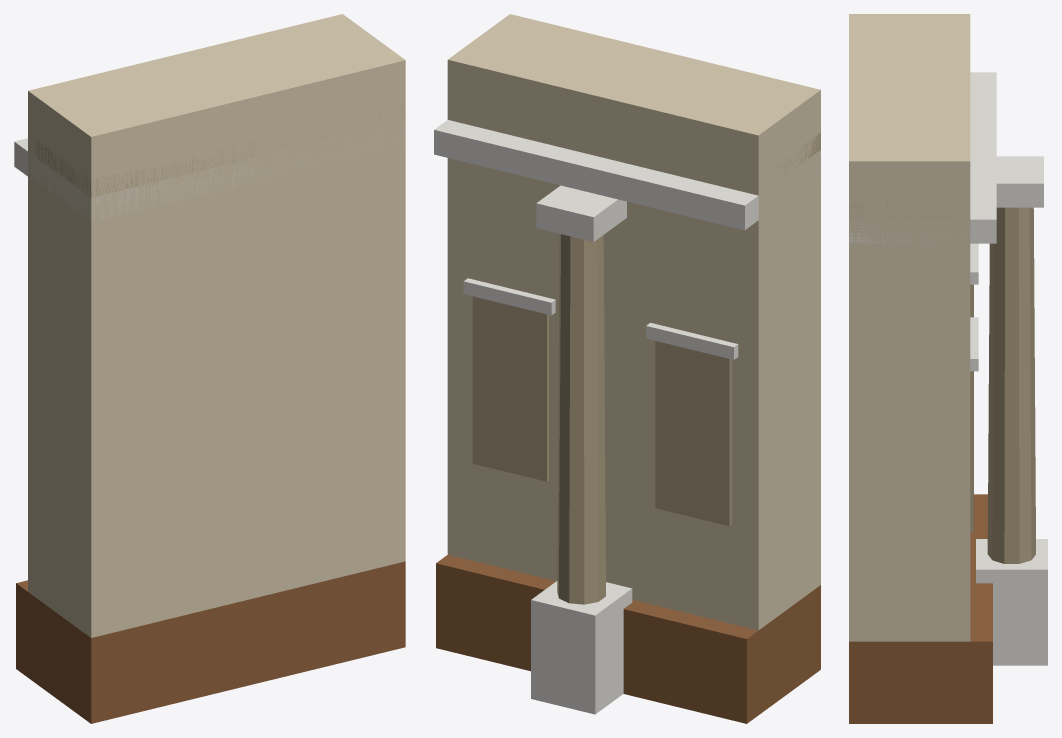
The model's file is SM_AmphiStage_4m.fbx.
The picture shows the model from 3 angles, left to right: view 1: azimuth 30°, elevation 25°; view 2: azimuth 150°, elevation 25°; view 3: azimuth 270°, elevation 25°; orthographic projection. The views are drawn at different scales.
Visible parts, largest first — view 1: SM_AmphiStage_4m; view 2: SM_AmphiStage_4m; view 3: SM_AmphiStage_4m.
Boxes of the visible parts, box(x1,y1,x2,y2) form: SM_AmphiStage_4m: box(14, 14, 405, 723); SM_AmphiStage_4m: box(434, 14, 820, 723); SM_AmphiStage_4m: box(849, 14, 1047, 723).
Bounding box in the file's own units: 4.6 × 2.63 × 8.2.
